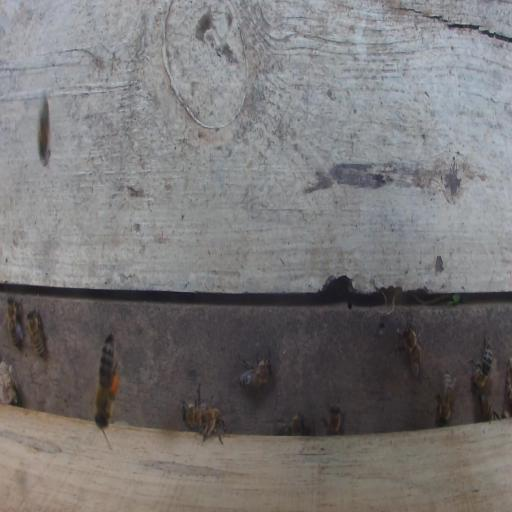bee: (95, 332, 121, 434), (396, 324, 426, 380), (238, 347, 273, 392), (468, 333, 492, 390), (181, 382, 207, 432), (38, 90, 51, 168), (27, 306, 46, 358), (7, 296, 24, 347), (437, 370, 453, 423), (278, 412, 307, 436), (323, 401, 344, 434), (478, 393, 500, 422)
